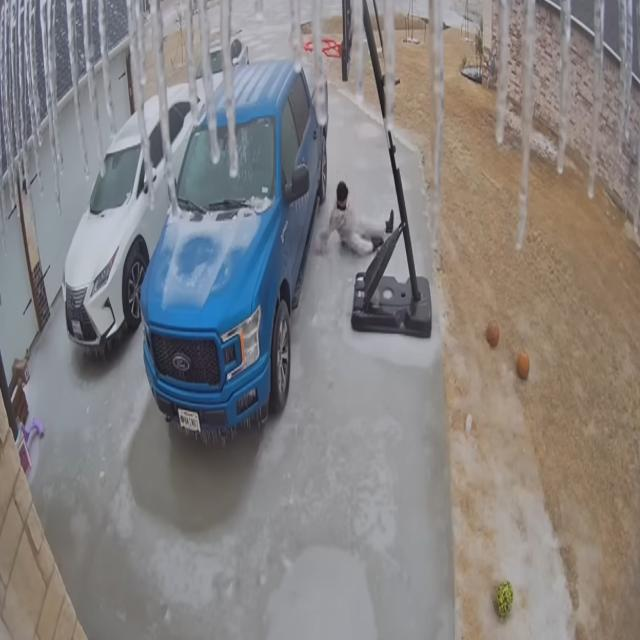fallen: (318, 181, 394, 256)
